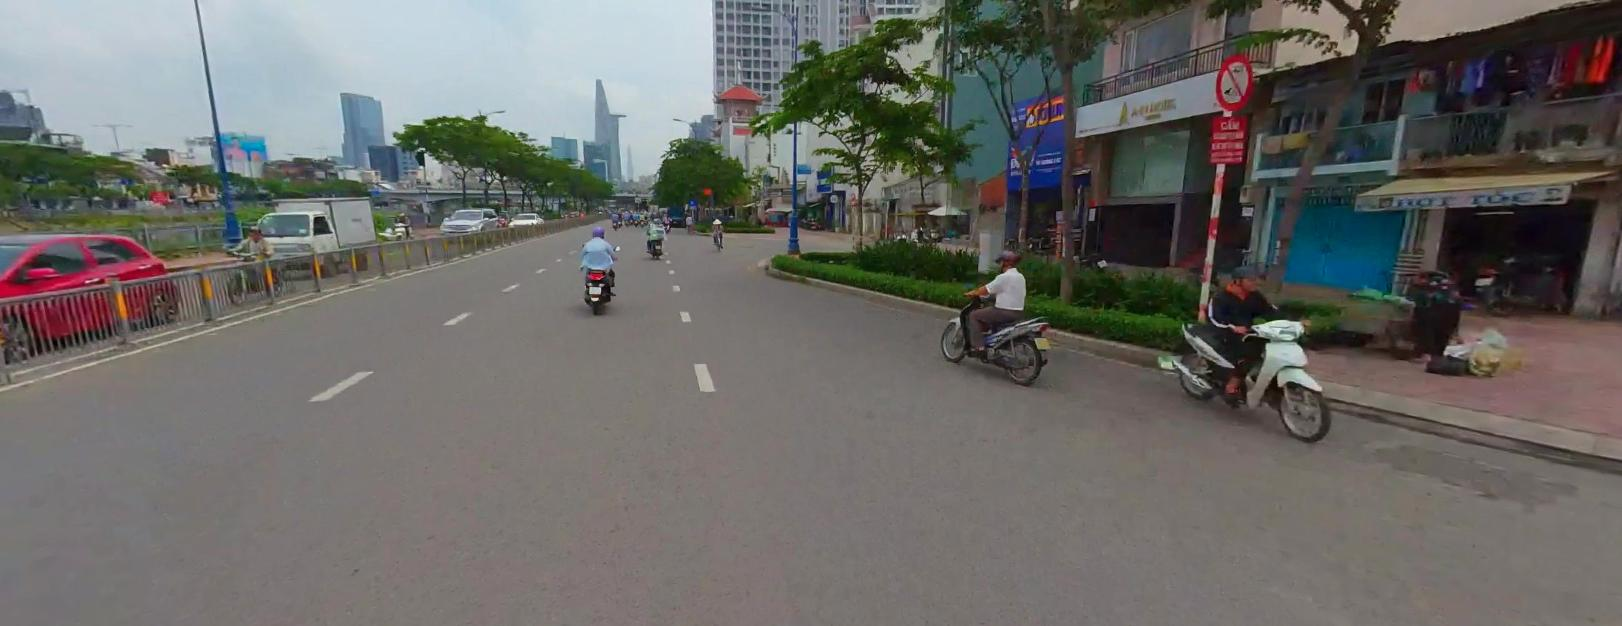Cam con lai: (1214, 54, 1254, 110)
